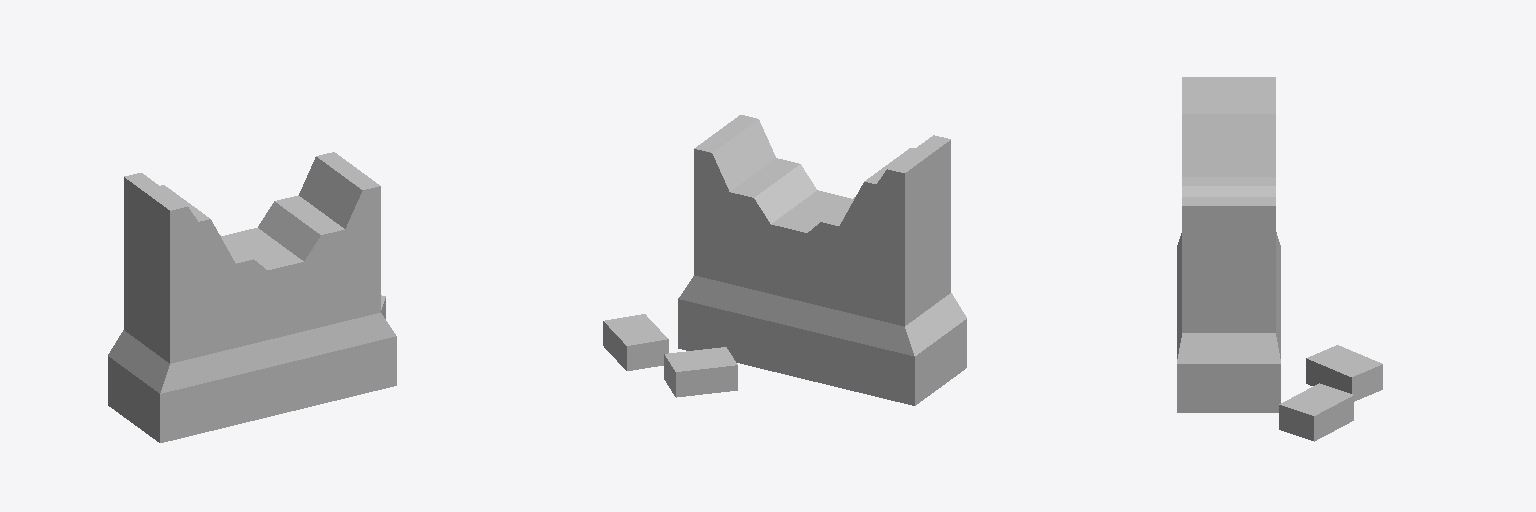
Rendered from gravestoneBroken.obj.
3 renders of one model, left to right at view 1: azimuth 30°, elevation 25°; view 2: azimuth 150°, elevation 25°; view 3: azimuth 270°, elevation 25°, orthographic.
Visible parts, largest first — view 1: gravestoneBroken; view 2: gravestoneBroken; view 3: gravestoneBroken.
Part boxes in pixels (left/top/right/bottom): gravestoneBroken: left=108, top=152, right=396, bottom=442; gravestoneBroken: left=603, top=115, right=966, bottom=405; gravestoneBroken: left=1177, top=77, right=1382, bottom=441.
Size of the model in its own units: 0.4864 by 0.3581 by 0.2949.